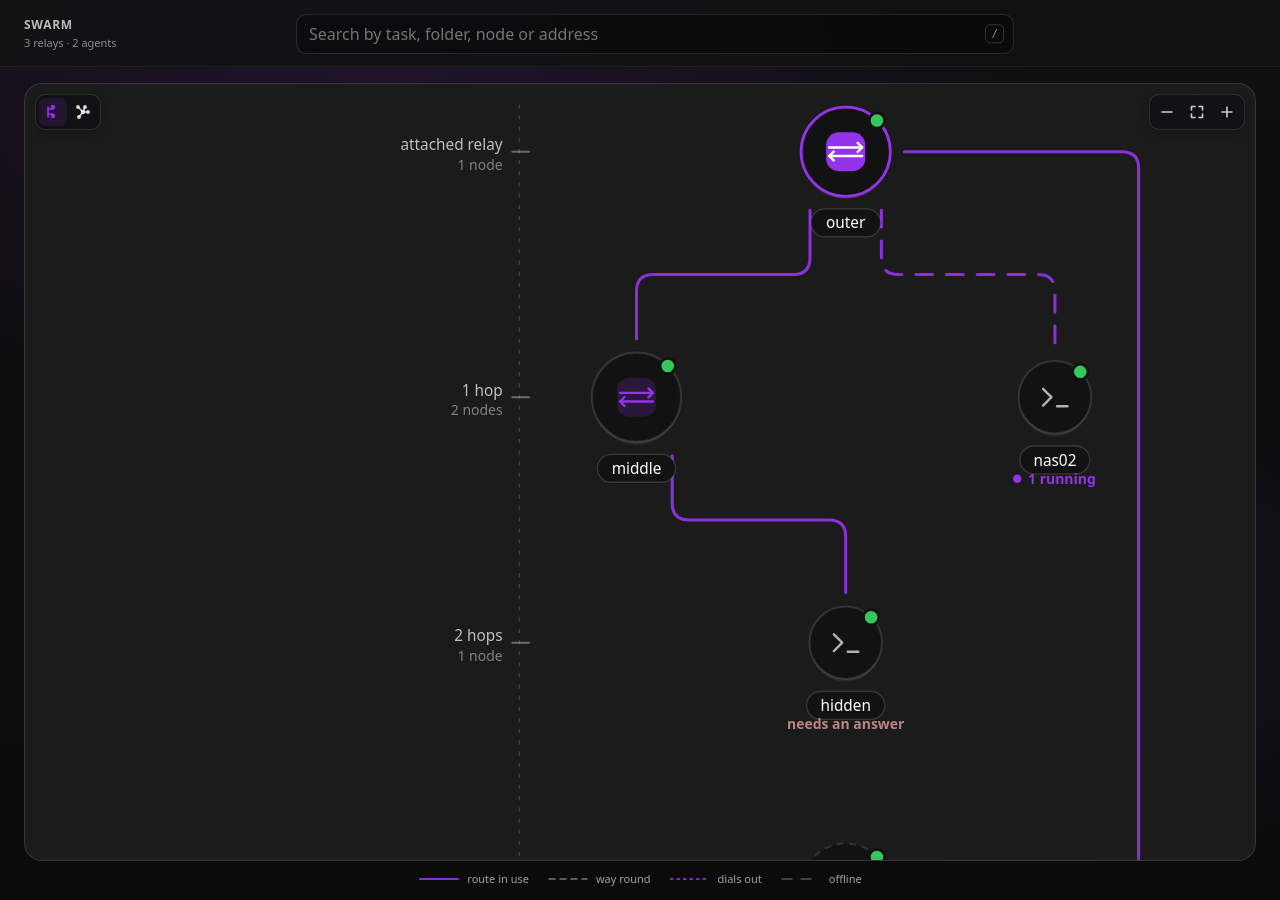
Test: SwarmView › keeps the manual camera across an unchanged topology poll
The width and height of the screenshot is (1280, 900).
Expected: the element with class "swarm-graph-camera" is shown, [400, 90, 1139, 860]
Type "parser" into the search field with test id "swarm-search" at (655, 34), box [296, 14, 1014, 54]
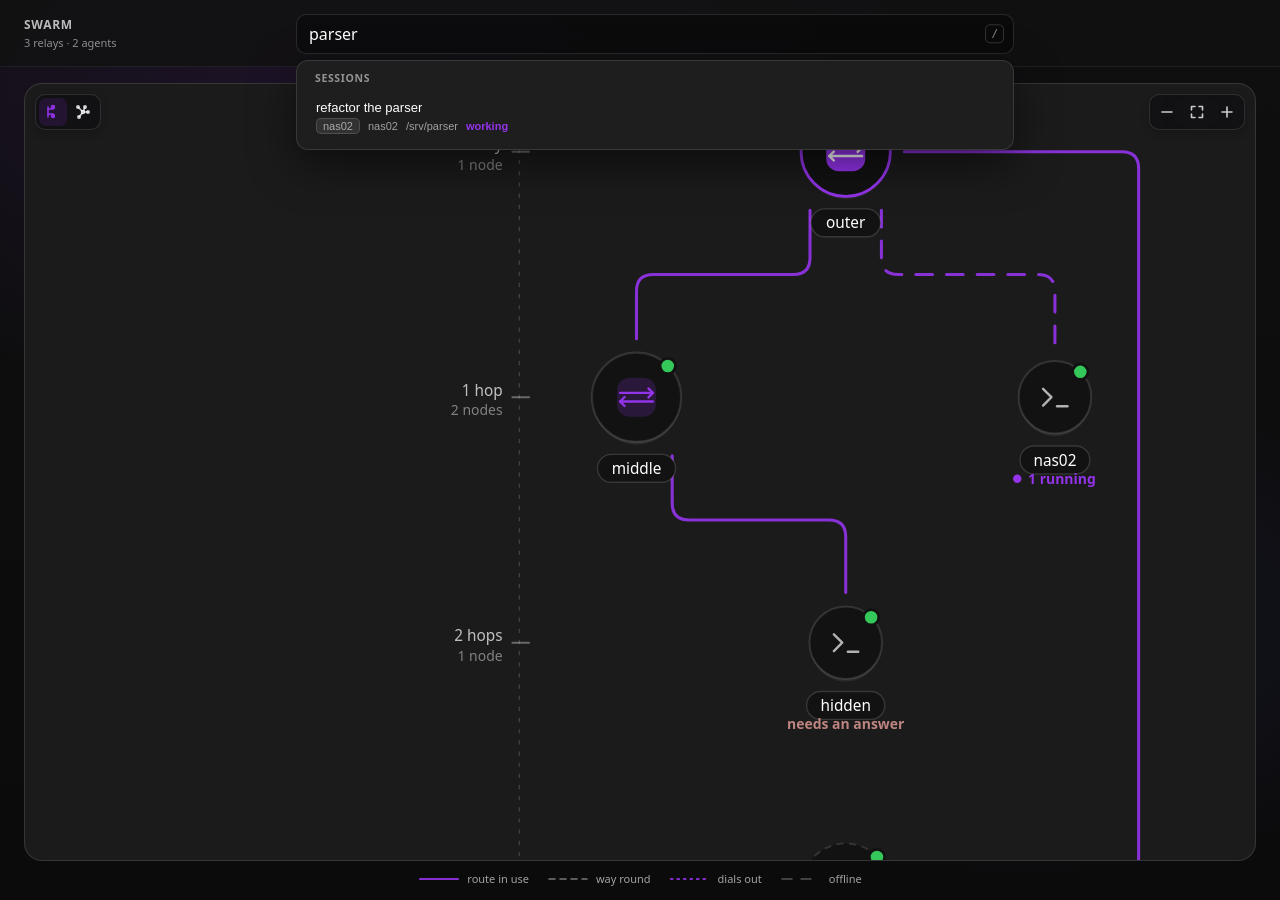
Expected: the element with class "swarm-graph-camera" is shown, [400, 90, 1139, 860]
Expected: the list with test id "swarm-results" is shown, [296, 60, 1014, 150]
